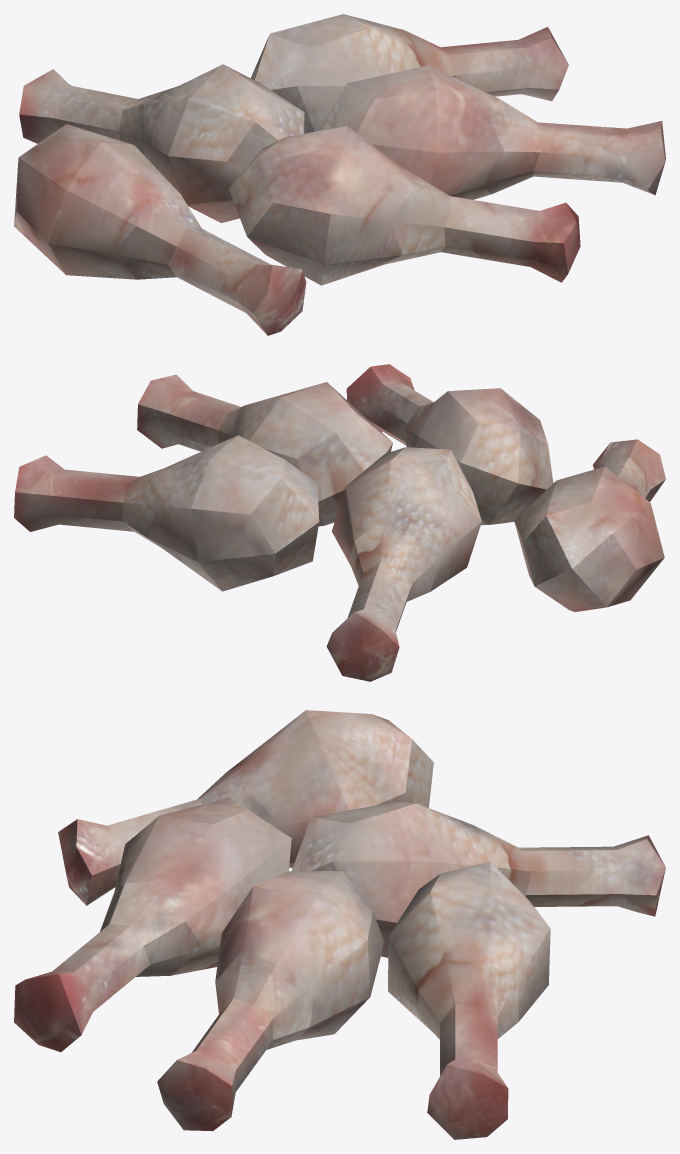
File: ChickenLeg_group.fbx
The picture shows the model from 3 angles, top to bottom: view 1: azimuth 30°, elevation 25°; view 2: azimuth 150°, elevation 25°; view 3: azimuth 270°, elevation 25°; orthographic projection. The views are drawn at different scales.
Visible parts, largest first — view 1: ChickenLeg; view 2: ChickenLeg; view 3: ChickenLeg.
Boxes of the visible parts, x1,y1,x2,y2 form: ChickenLeg: (14,14,665,335); ChickenLeg: (14,364,665,681); ChickenLeg: (14,710,665,1139).
Bounding box in the file's own units: 0.5492 × 0.1287 × 0.4757.
